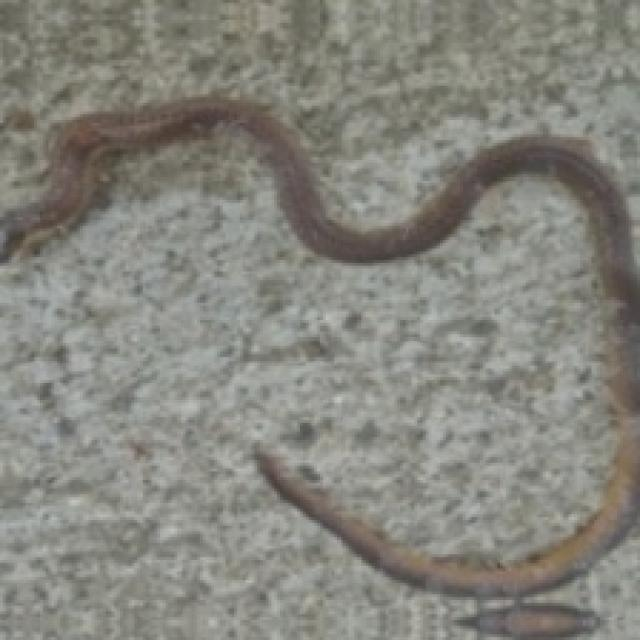gervais worm snake: (0, 94, 637, 600)
